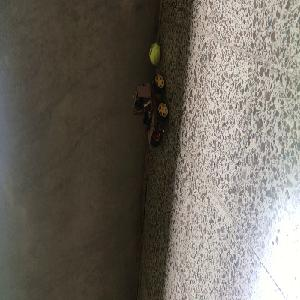Ball: (148, 44, 160, 64)
Robot: (130, 74, 169, 148)
